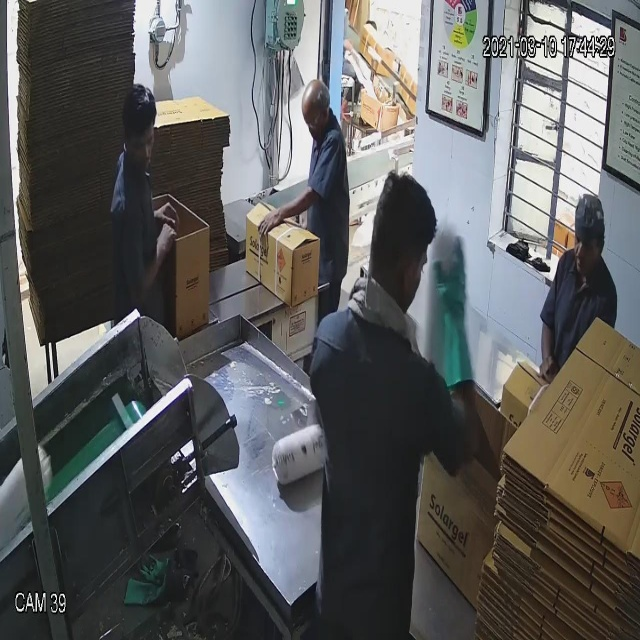Guantes: (426, 246, 479, 409)
Sin_guantes: (122, 226, 185, 313), (246, 176, 319, 244), (517, 302, 558, 372)
